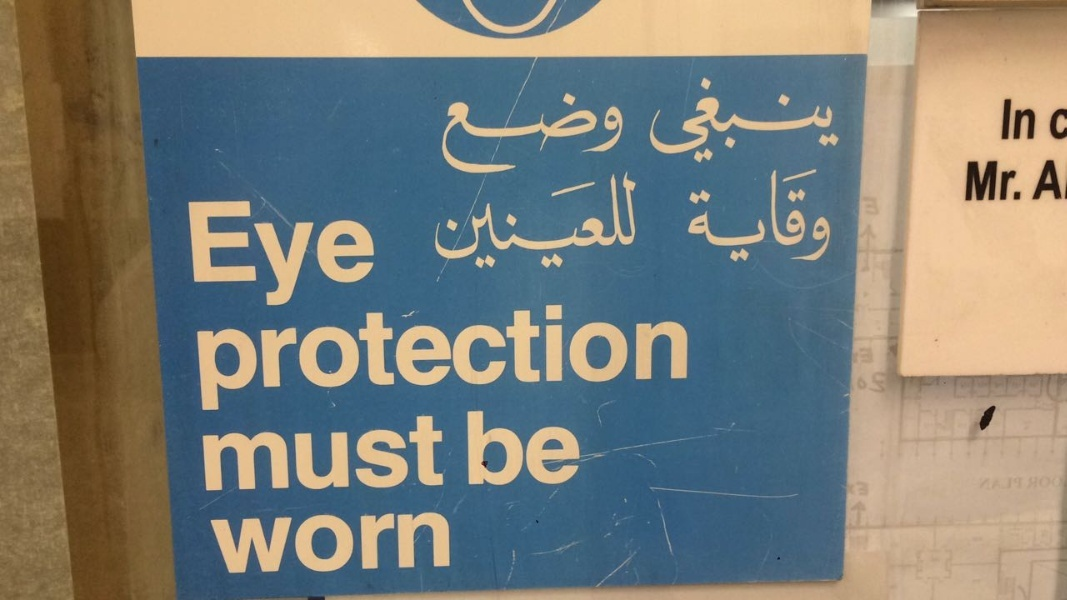text: (209, 283, 224, 412), (225, 283, 240, 412), (241, 283, 256, 412), (257, 283, 272, 412), (273, 283, 288, 412), (289, 283, 304, 412), (305, 283, 320, 412), (321, 283, 336, 412), (337, 283, 352, 412), (353, 283, 368, 412), (369, 283, 384, 412), (385, 283, 400, 412), (401, 283, 416, 412), (417, 283, 432, 412), (433, 283, 448, 412), (449, 283, 464, 412), (465, 283, 480, 412), (481, 283, 496, 412), (497, 283, 512, 412), (513, 283, 528, 412), (529, 283, 544, 412), (545, 283, 560, 412), (561, 283, 576, 412), (577, 283, 592, 412), (593, 283, 608, 412), (609, 283, 624, 412), (625, 283, 640, 412), (641, 283, 656, 412), (657, 283, 672, 412), (673, 283, 688, 412), (193, 197, 208, 309), (209, 197, 224, 309), (225, 197, 240, 309), (241, 197, 256, 309), (257, 197, 272, 309), (273, 197, 288, 309), (289, 197, 304, 309), (305, 197, 320, 309), (321, 197, 336, 309), (337, 197, 352, 309), (353, 197, 368, 309), (195, 283, 208, 412), (433, 170, 448, 271), (449, 170, 464, 271), (465, 170, 480, 271), (481, 170, 496, 271), (497, 170, 512, 271), (513, 170, 528, 271), (529, 170, 544, 271), (545, 170, 560, 271), (561, 170, 576, 271), (577, 170, 592, 271), (593, 170, 608, 271), (609, 170, 624, 271), (705, 167, 720, 266), (721, 167, 736, 266), (737, 167, 752, 266), (753, 167, 768, 266), (769, 167, 784, 266), (785, 167, 800, 266), (801, 167, 816, 266), (817, 167, 832, 266), (673, 71, 688, 165), (689, 71, 704, 165), (705, 71, 720, 165), (721, 71, 736, 165), (737, 71, 752, 165), (753, 71, 768, 165), (769, 71, 784, 165), (785, 71, 800, 165), (801, 71, 816, 165), (817, 71, 832, 165), (449, 90, 464, 183), (465, 90, 480, 183), (481, 90, 496, 183), (497, 90, 512, 183), (513, 90, 528, 183), (529, 90, 544, 183), (545, 90, 560, 183), (561, 90, 576, 183), (577, 90, 592, 183), (593, 90, 608, 183), (609, 90, 624, 183), (689, 283, 699, 412), (209, 414, 224, 495), (225, 414, 240, 495), (241, 414, 256, 495), (257, 414, 272, 495), (273, 414, 288, 495), (289, 414, 304, 495), (305, 414, 320, 495), (321, 414, 336, 495), (337, 414, 352, 495), (353, 414, 368, 495), (369, 414, 384, 495), (385, 414, 400, 495), (401, 414, 416, 495), (417, 414, 432, 495), (433, 414, 448, 495), (625, 170, 637, 271), (692, 167, 704, 266), (465, 409, 480, 486), (481, 409, 496, 486), (497, 409, 512, 486), (513, 409, 528, 486), (529, 409, 544, 486), (545, 409, 560, 486), (561, 409, 576, 486), (660, 71, 672, 165), (369, 197, 379, 309), (209, 510, 224, 576), (225, 510, 240, 576), (241, 510, 256, 576), (257, 510, 272, 576), (273, 510, 288, 576), (289, 510, 304, 576), (305, 510, 320, 576), (321, 510, 336, 576), (337, 510, 352, 576), (353, 510, 368, 576), (369, 510, 384, 576), (385, 510, 400, 576), (401, 510, 416, 576), (417, 510, 432, 576), (433, 510, 448, 576), (833, 71, 842, 165), (199, 414, 208, 495), (1009, 93, 1024, 141), (1041, 157, 1056, 202), (977, 161, 992, 202), (993, 161, 1008, 202), (833, 167, 839, 266), (187, 197, 192, 309), (1009, 161, 1022, 202), (1025, 93, 1036, 141), (443, 90, 448, 183), (577, 409, 582, 486), (865, 193, 880, 218), (849, 476, 864, 501), (1057, 106, 1067, 141), (1057, 157, 1064, 202), (969, 161, 976, 202), (625, 90, 628, 183), (449, 510, 453, 576), (865, 343, 876, 367), (1003, 93, 1008, 141), (977, 475, 992, 491), (993, 475, 1008, 491), (1009, 475, 1024, 491), (1025, 475, 1040, 491), (1041, 475, 1056, 491), (449, 414, 451, 495), (1057, 475, 1066, 491), (1053, 106, 1056, 141), (861, 193, 864, 218), (865, 476, 868, 501), (861, 343, 864, 367), (881, 193, 882, 218), (975, 475, 976, 491)
